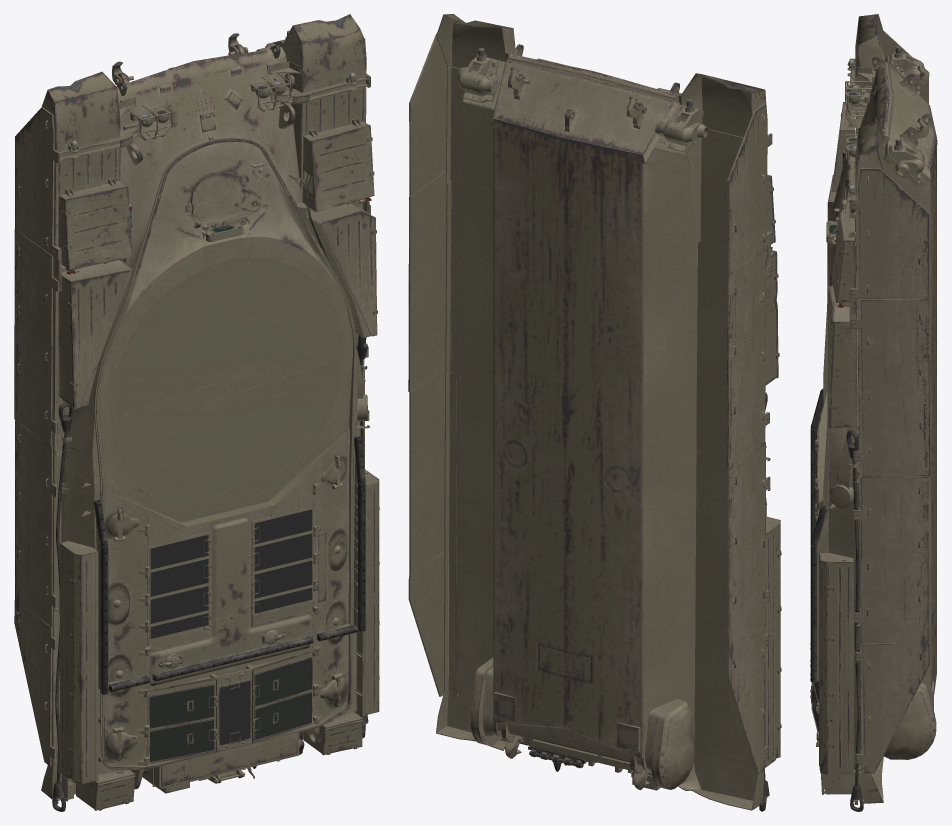
The model's file is Hull.glb.
3 renders of one model, left to right at view 1: azimuth 30°, elevation 25°; view 2: azimuth 150°, elevation 25°; view 3: azimuth 270°, elevation 25°, orthographic. The views are drawn at different scales.
Visible parts, largest first — view 1: set_0_group_0; view 2: set_0_group_0; view 3: set_0_group_0.
Part boxes in pixels (box(x1,y1,x2,y2)): set_0_group_0: box(14, 14, 379, 811); set_0_group_0: box(408, 14, 781, 811); set_0_group_0: box(810, 14, 937, 811).
Size of the model in its own units: 3.49 by 7.55 by 1.3.
Materials: 1 (1 with a texture image).
